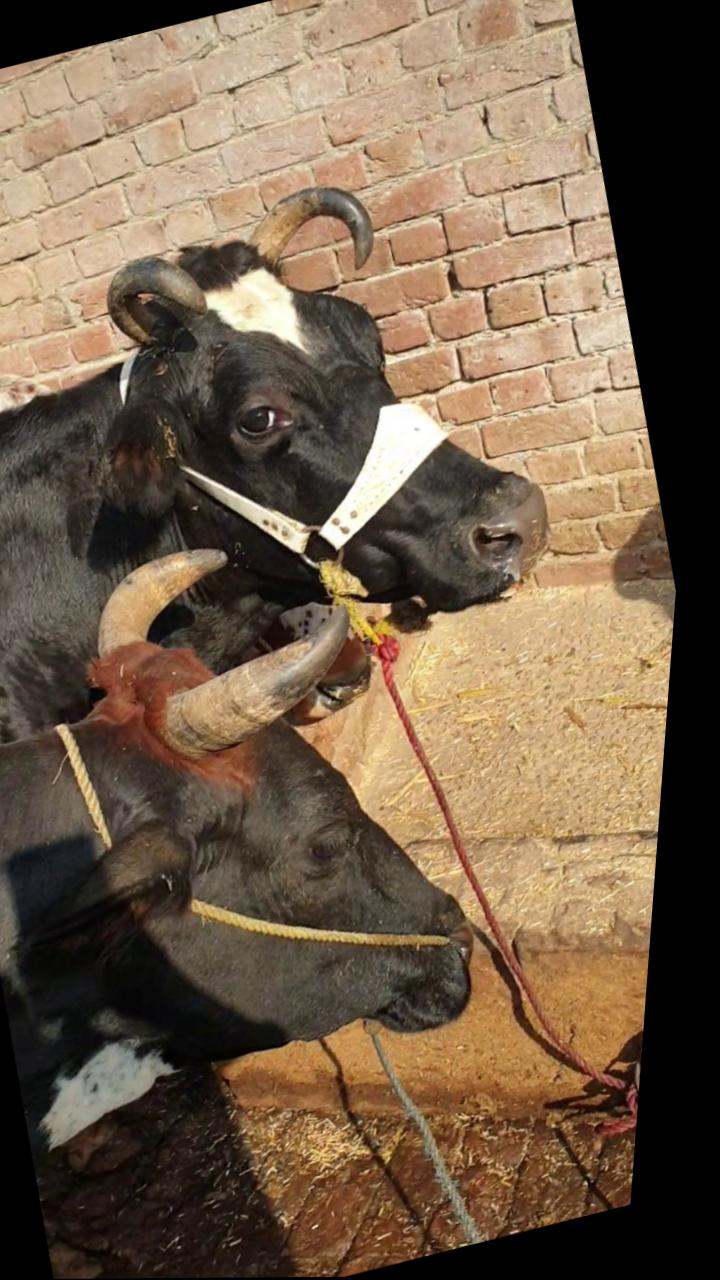cows: (88, 95, 651, 673), (74, 597, 587, 1109)
